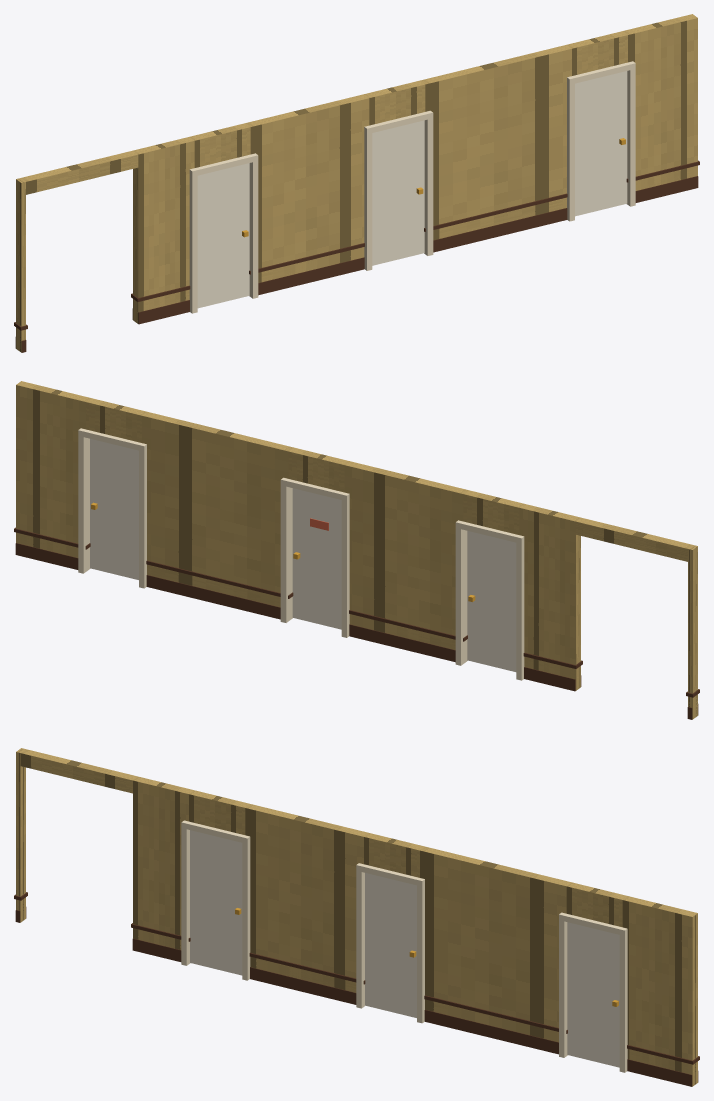
The model's file is hall_back.glb.
3 views of the same model, one above another, from view 1: azimuth 30°, elevation 25°; view 2: azimuth 150°, elevation 25°; view 3: azimuth 330°, elevation 25° (orthographic).
Parts seen in each view (by area): view 1: Box7, Box5, Box9, Box3, Box31, Box25, Box18, Box11, Box12, Box13, Box14, Box8 (+13 smaller); view 2: Box7, Box5, Box9, Box3, Box25, Box31, Box18, Box11, Box12, Box13, Box14, Box16 (+14 smaller); view 3: Box7, Box5, Box9, Box3, Box25, Box31, Box18, Box11, Box14, Box12, Box13, Box8 (+13 smaller).
Boxes of the visible parts, bbox=[...] form: Box7: bbox=[420, 45, 571, 240]; Box5: bbox=[245, 94, 369, 282]; Box9: bbox=[623, 14, 697, 190]; Box3: bbox=[133, 137, 194, 323]; Box31: bbox=[575, 71, 627, 216]; Box25: bbox=[197, 163, 249, 308]; Box18: bbox=[372, 120, 424, 265]; Box11: bbox=[21, 150, 138, 194]; Box12: bbox=[189, 123, 250, 167]; Box13: bbox=[364, 80, 425, 125]; Box14: bbox=[567, 31, 627, 75]; Box8: bbox=[433, 208, 567, 252]; Box7: bbox=[142, 412, 293, 606]; Box5: bbox=[344, 461, 468, 649]; Box9: bbox=[16, 381, 90, 557]; Box3: bbox=[519, 504, 580, 690]; Box25: bbox=[467, 531, 516, 671]; Box31: bbox=[90, 438, 138, 579]; Box18: bbox=[292, 488, 341, 629]; Box11: bbox=[575, 517, 692, 561]; Box12: bbox=[463, 490, 524, 534]; Box13: bbox=[288, 447, 349, 492]; Box14: bbox=[86, 398, 146, 442]; Box16: bbox=[280, 477, 292, 622]; Box7: bbox=[420, 846, 571, 1042]; Box5: bbox=[245, 804, 368, 992]; Box9: bbox=[622, 896, 697, 1086]; Box3: bbox=[133, 776, 193, 949]; Box25: bbox=[190, 830, 242, 975]; Box31: bbox=[567, 922, 619, 1067]; Box18: bbox=[365, 873, 416, 1017]; Box11: bbox=[20, 749, 137, 793]; Box14: bbox=[566, 882, 627, 927]; Box12: bbox=[189, 790, 249, 834]; Box13: bbox=[364, 833, 424, 877]; Box8: bbox=[424, 1010, 558, 1054].
Size of the model in its own units: 10.89 by 2.6 by 0.3.
Materials: 6 (1 with a texture image).
